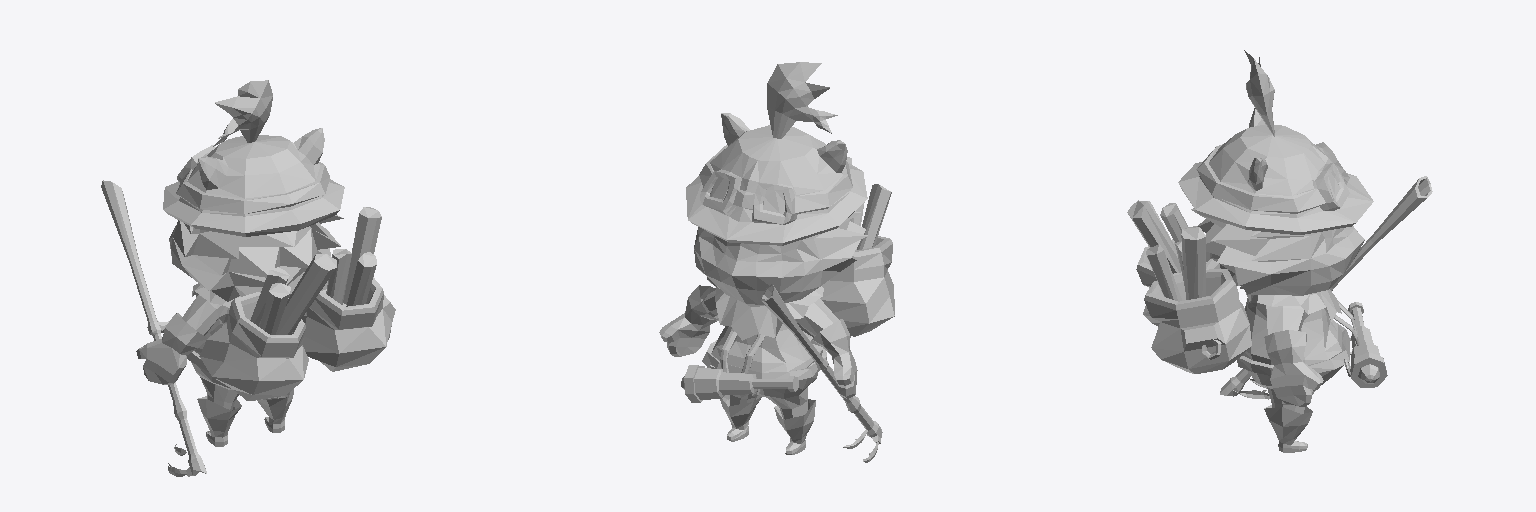
The model's file is port.obj.
3 renders of one model, left to right at view 1: azimuth 30°, elevation 25°; view 2: azimuth 150°, elevation 25°; view 3: azimuth 270°, elevation 25°, orthographic.
Visible parts, largest first — view 1: Sphere003, Sphere002, Cylinder005, Cylinder006, Cylinder004, Box004, Box002, Plane004, Cylinder014, Cylinder017, Cylinder013, Cylinder018 (+4 smaller); view 2: Sphere003, Sphere002, Box002, Cylinder005, Plane004, Cylinder003, Torus001, Box003, Cylinder004, Box004, Cylinder009, Cylinder013 (+1 smaller); view 3: Sphere003, Sphere002, Cylinder006, Box002, Box003, Cylinder004, Cylinder003, Cylinder017, Cylinder014, Cylinder002, Torus001, Plane004 (+3 smaller).
Boxes of the visible parts, x1=… form: Sphere003: x1=163, y1=128, x2=344, y2=236; Sphere002: x1=169, y1=215, x2=343, y2=301; Cylinder005: x1=199, y1=292, x2=308, y2=400; Cylinder006: x1=302, y1=277, x2=395, y2=371; Cylinder004: x1=101, y1=180, x2=206, y2=476; Box004: x1=136, y1=313, x2=207, y2=384; Box002: x1=182, y1=295, x2=284, y2=410; Plane004: x1=213, y1=80, x2=272, y2=146; Cylinder014: x1=276, y1=254, x2=336, y2=334; Cylinder017: x1=343, y1=207, x2=381, y2=304; Cylinder013: x1=197, y1=396, x2=241, y2=446; Cylinder018: x1=346, y1=252, x2=376, y2=306; Sphere003: x1=686, y1=113, x2=867, y2=245; Sphere002: x1=694, y1=211, x2=867, y2=305; Box002: x1=701, y1=290, x2=838, y2=419; Cylinder005: x1=820, y1=236, x2=894, y2=336; Plane004: x1=767, y1=62, x2=837, y2=138; Cylinder003: x1=681, y1=365, x2=798, y2=402; Torus001: x1=715, y1=286, x2=823, y2=340; Box003: x1=659, y1=285, x2=718, y2=356; Cylinder004: x1=761, y1=284, x2=882, y2=443; Box004: x1=811, y1=319, x2=857, y2=398; Cylinder009: x1=857, y1=184, x2=891, y2=249; Cylinder013: x1=774, y1=399, x2=815, y2=454; Sphere003: x1=1178, y1=108, x2=1373, y2=234; Sphere002: x1=1191, y1=208, x2=1364, y2=295; Cylinder006: x1=1144, y1=269, x2=1251, y2=373; Box002: x1=1237, y1=292, x2=1349, y2=413; Box003: x1=1264, y1=330, x2=1323, y2=406; Cylinder004: x1=1220, y1=176, x2=1432, y2=396; Cylinder003: x1=1348, y1=302, x2=1387, y2=387; Cylinder017: x1=1181, y1=226, x2=1205, y2=299; Cylinder014: x1=1127, y1=200, x2=1181, y2=273; Cylinder002: x1=1264, y1=405, x2=1312, y2=452; Torus001: x1=1240, y1=287, x2=1341, y2=321; Plane004: x1=1244, y1=50, x2=1274, y2=136.
Size of the model in its own units: 76.92 by 138 by 101.